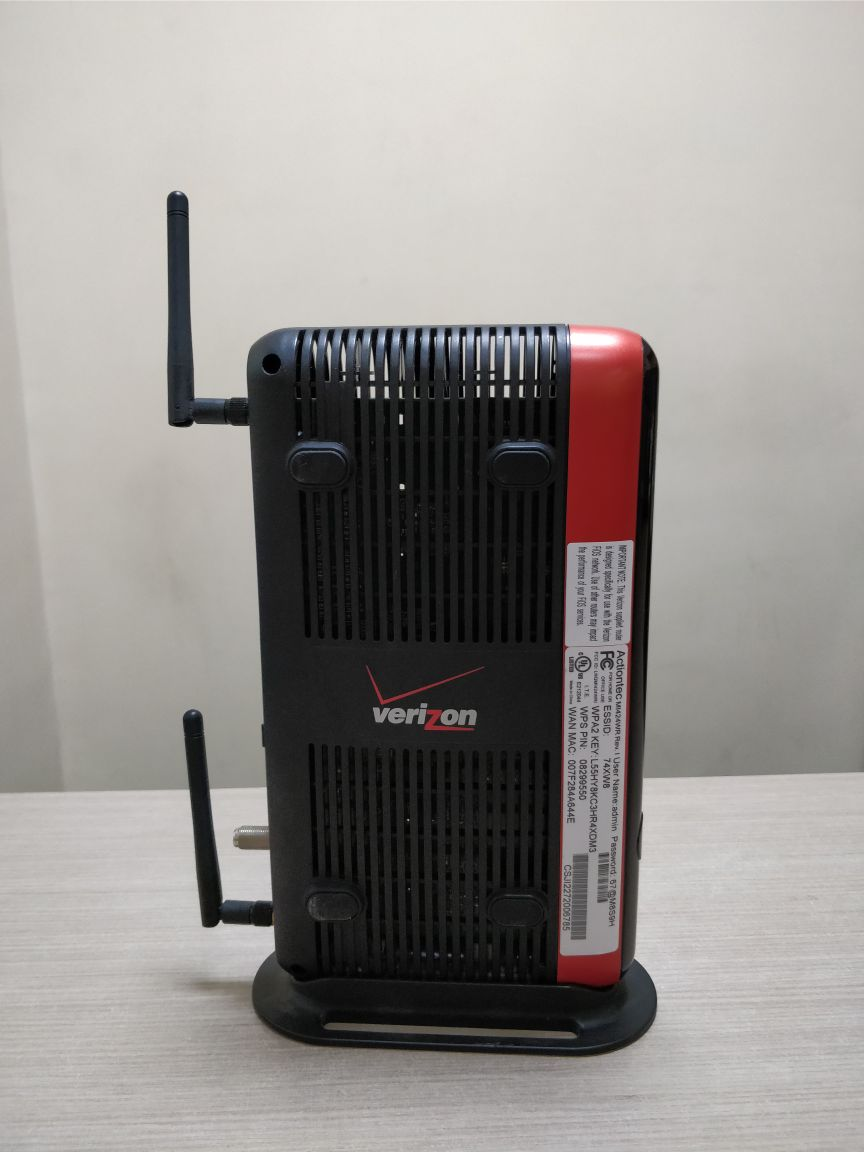Verizon Router: (148, 183, 672, 1055)
